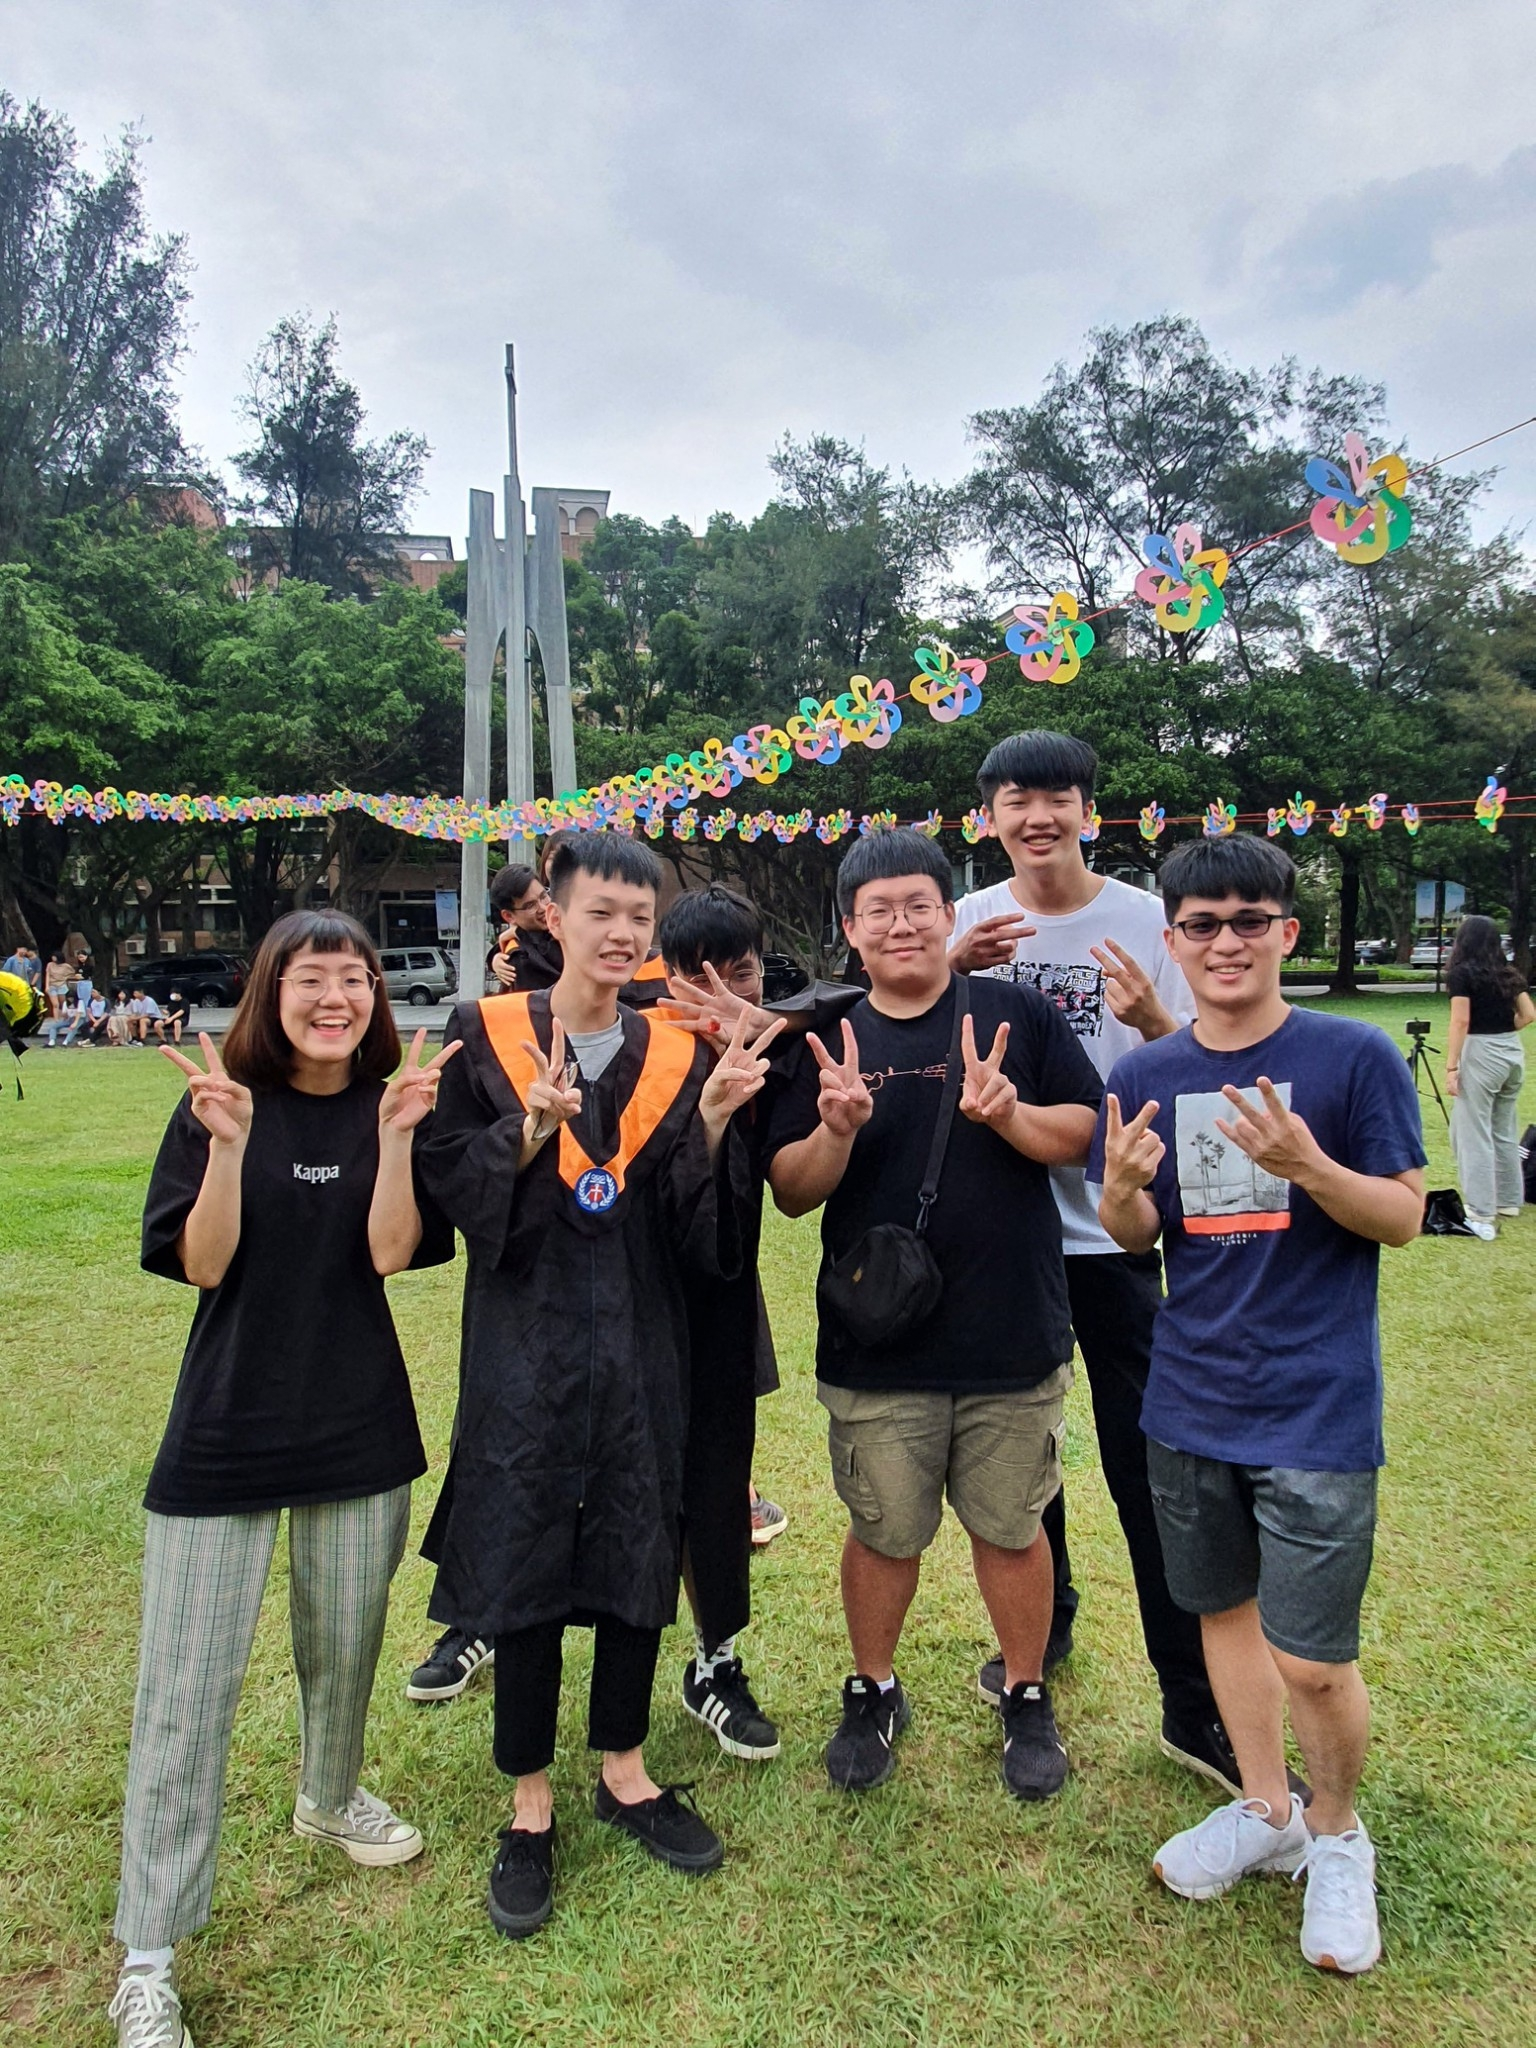people: (973, 734, 1315, 1796), (1134, 844, 1411, 1967), (479, 844, 721, 1918), (182, 925, 415, 1931), (837, 841, 1079, 1789), (612, 902, 773, 1728), (1427, 899, 1536, 1231)
